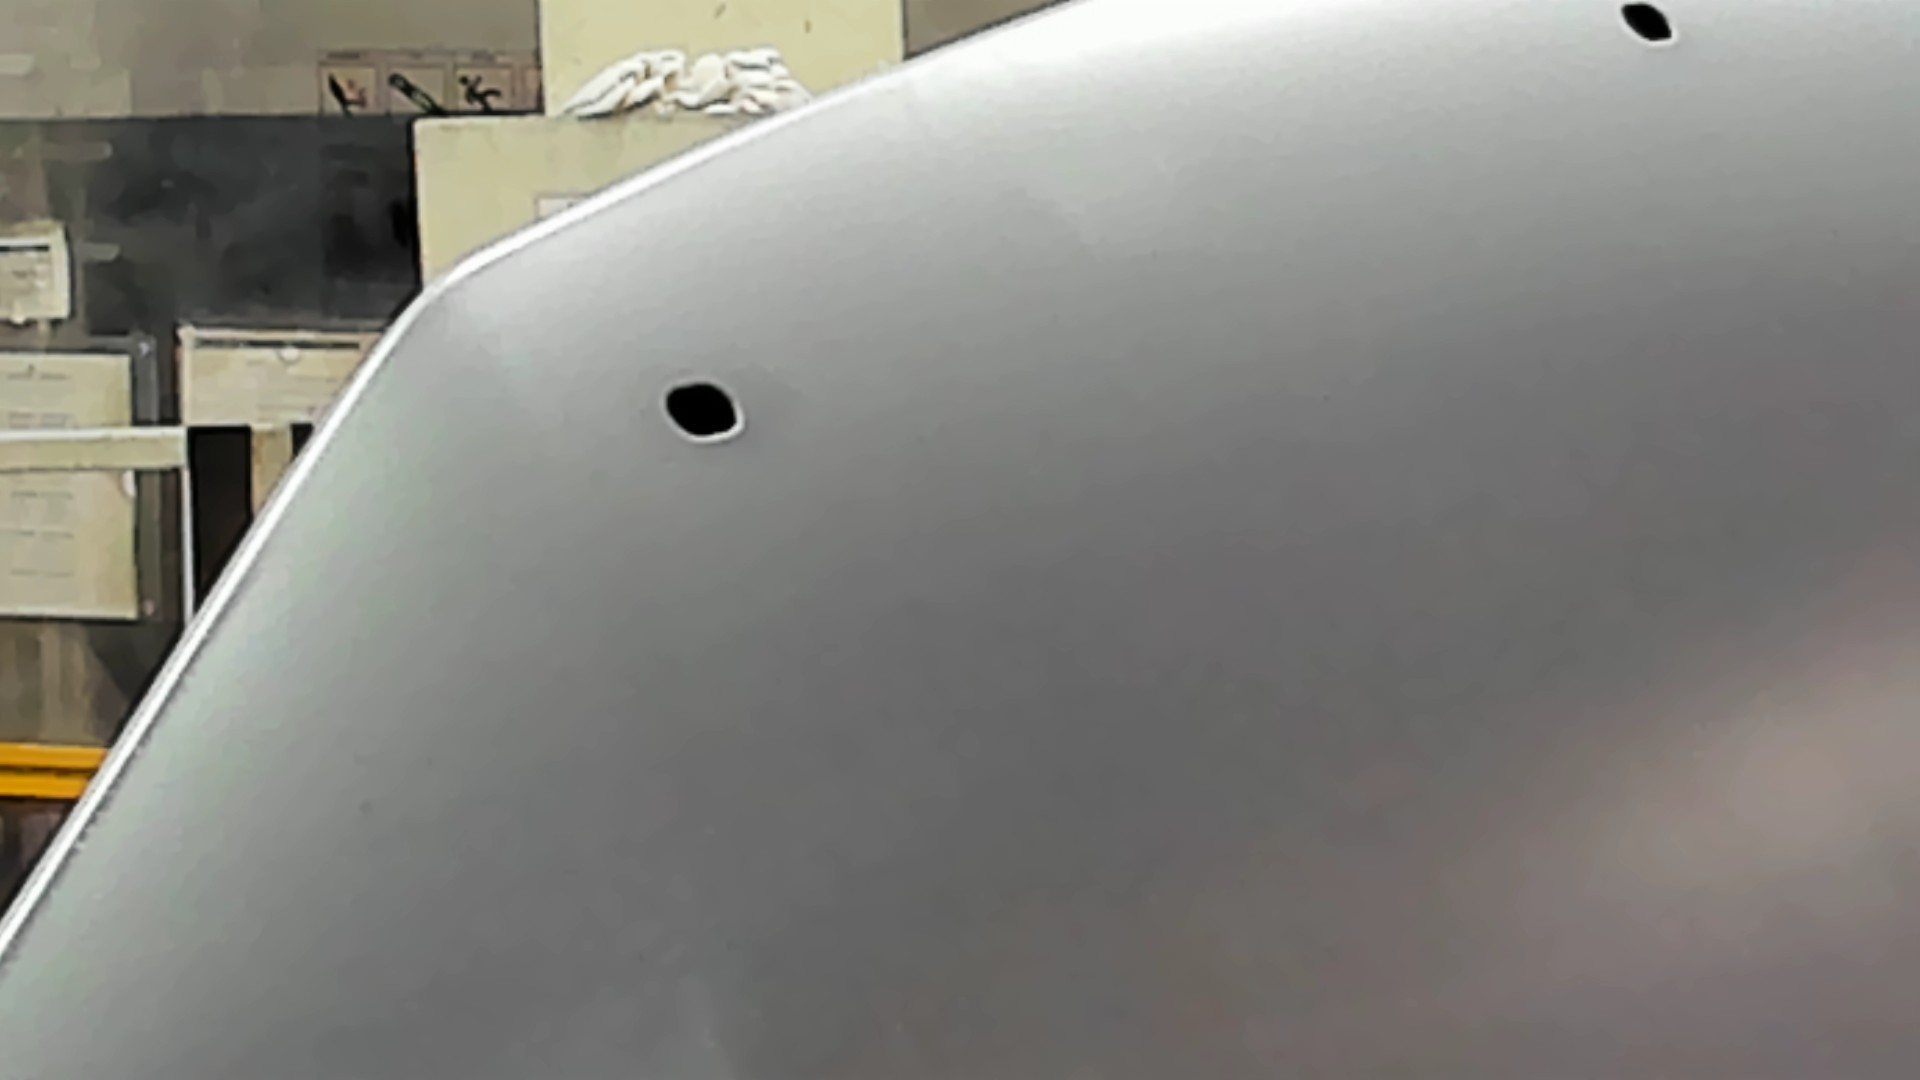amorfo: (651, 369, 757, 444), (1613, 1, 1683, 59)
capo: (877, 111, 1920, 1080)
